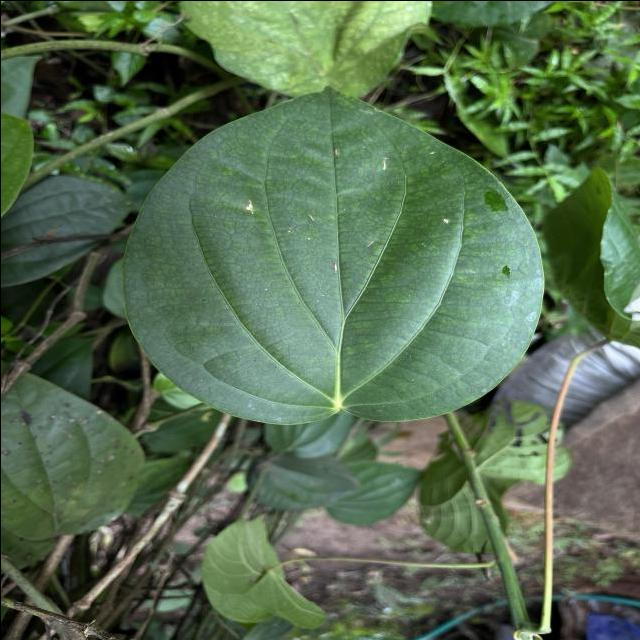Piper nigrum: (119, 81, 546, 426)
